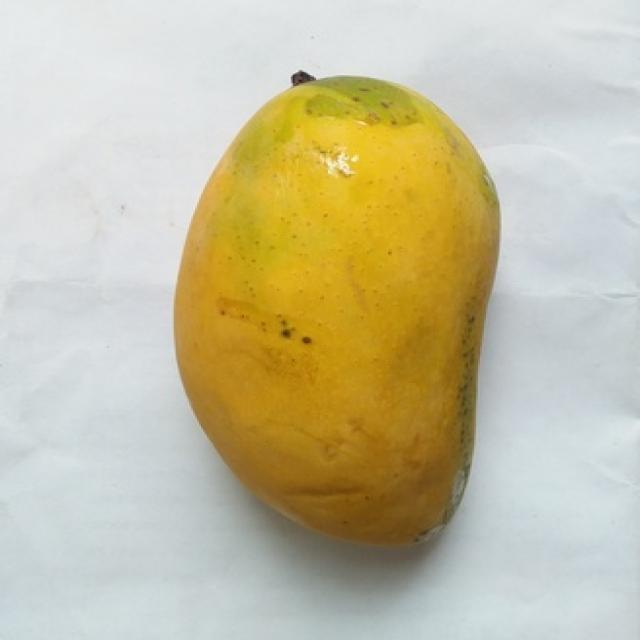Mango: (176, 78, 498, 543)
